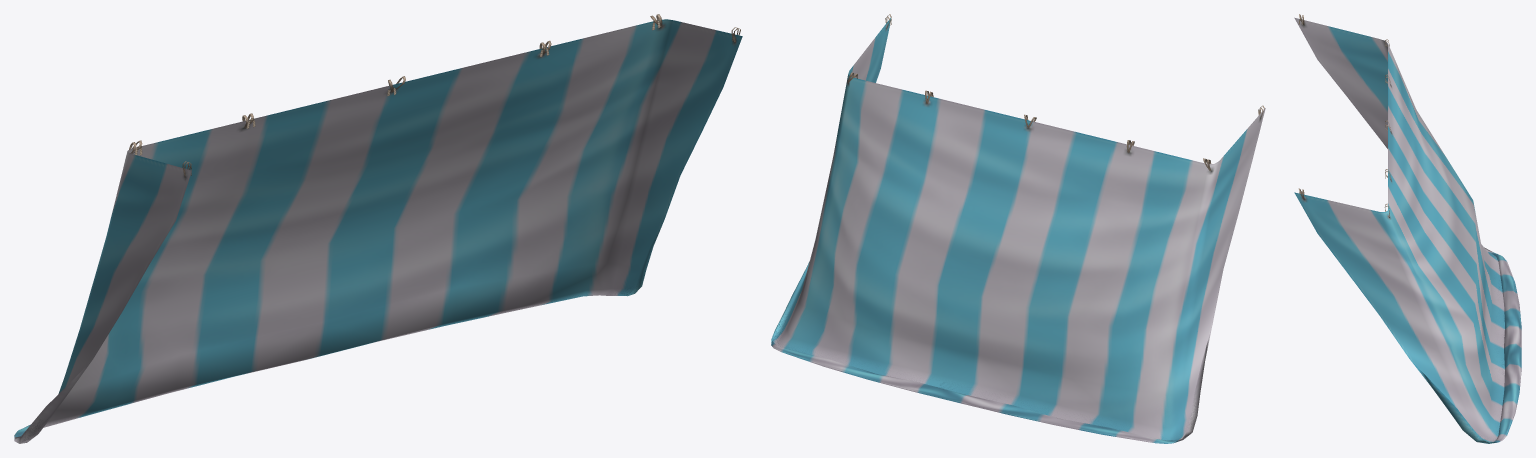
Rendered from jsf_BackSide_s03_c02_t02.fbx.
3 views of the same model, side by side, from view 1: azimuth 30°, elevation 25°; view 2: azimuth 150°, elevation 25°; view 3: azimuth 270°, elevation 25° (orthographic). The views are drawn at different scales.
Visible parts, largest first — view 1: jsf_BackSide_s03_c02_t02; view 2: jsf_BackSide_s03_c02_t02; view 3: jsf_BackSide_s03_c02_t02.
Part boxes in pixels (box(x1,y1,x2,y2)): jsf_BackSide_s03_c02_t02: box(14, 14, 742, 443); jsf_BackSide_s03_c02_t02: box(771, 14, 1265, 443); jsf_BackSide_s03_c02_t02: box(1294, 14, 1521, 443).
Size of the model in its own units: 348 by 205 by 171.
